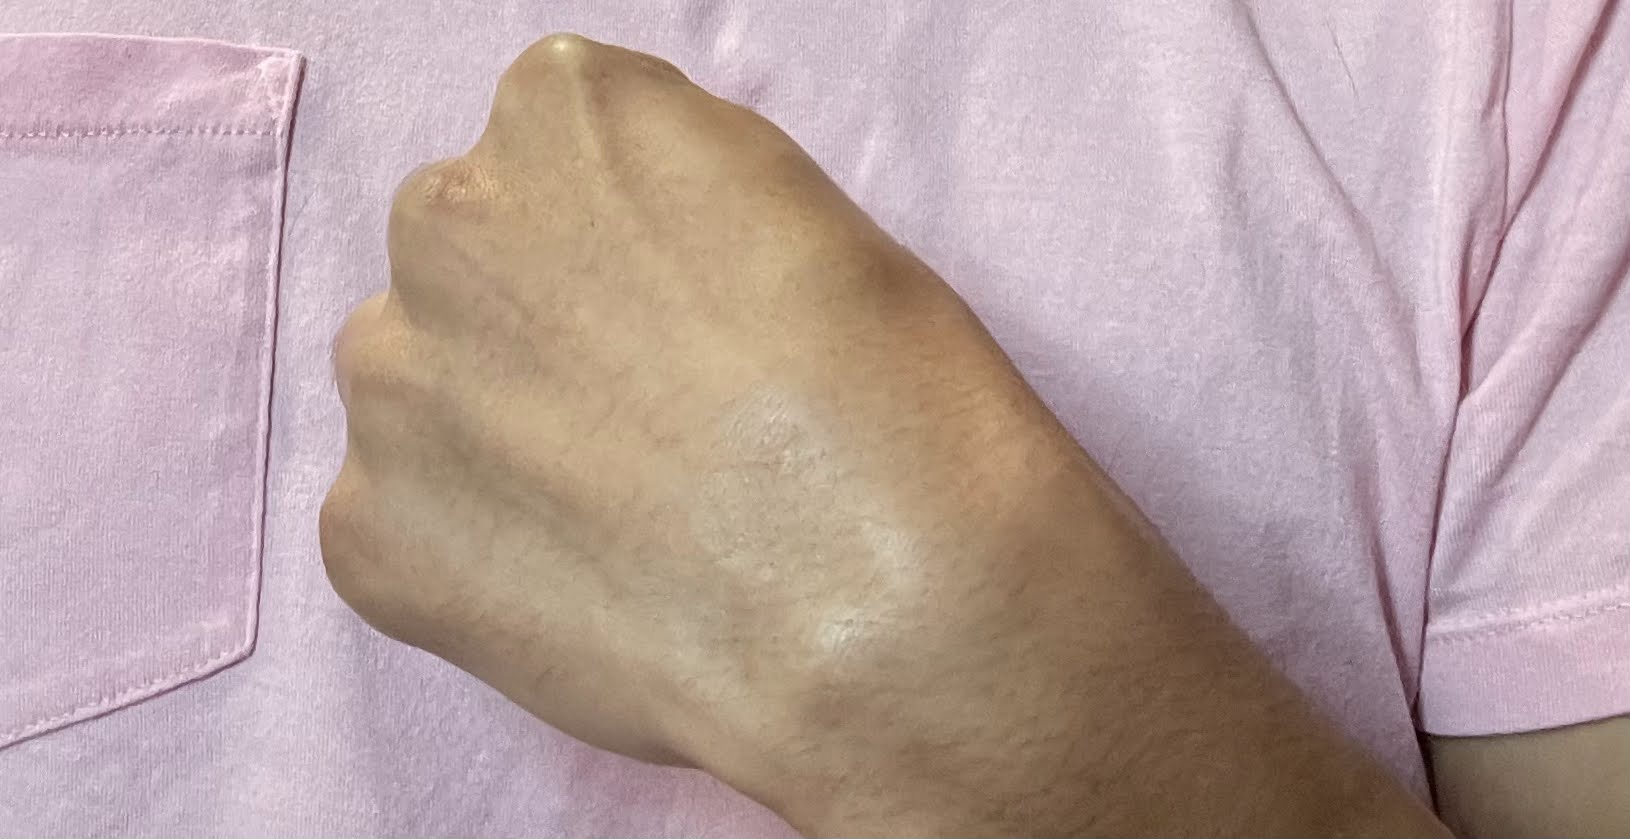I: (311, 29, 1286, 833)
